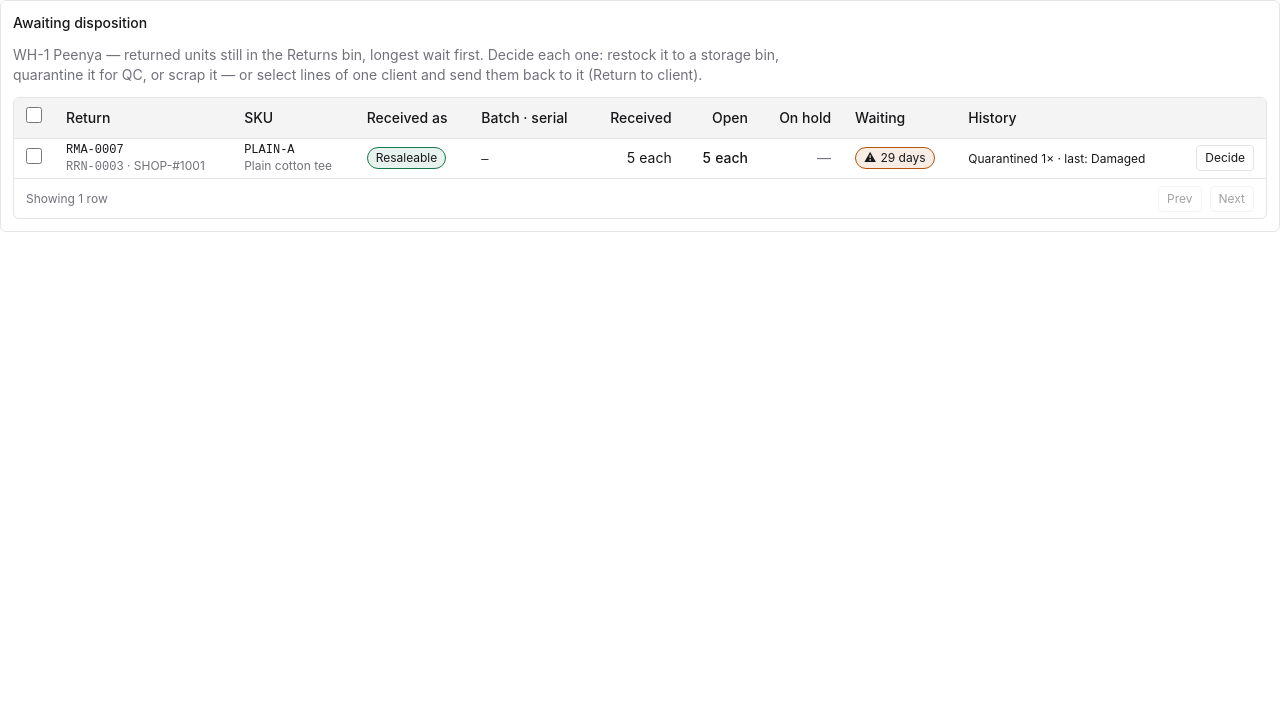
Test: the awaiting-disposition queue (story 4-7a) › a refusal that moved the line (exceeds-awaiting) names what is left and re-reads the queue
Step 1. Click the button with aria-label "Decide PLAIN-A on RMA-0007" → (1225, 158), box [1196,145,1254,171]
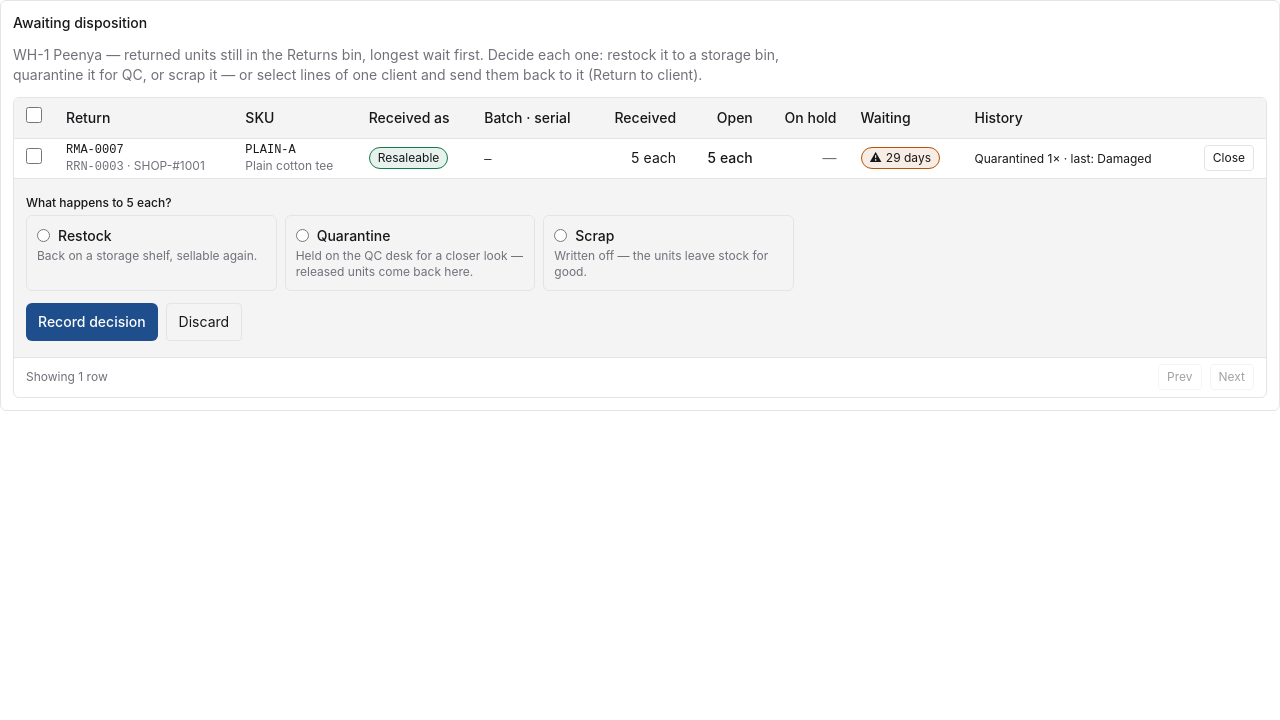
Step 2. Click the 2nd radio button → (302, 236), box [296,229,309,242]
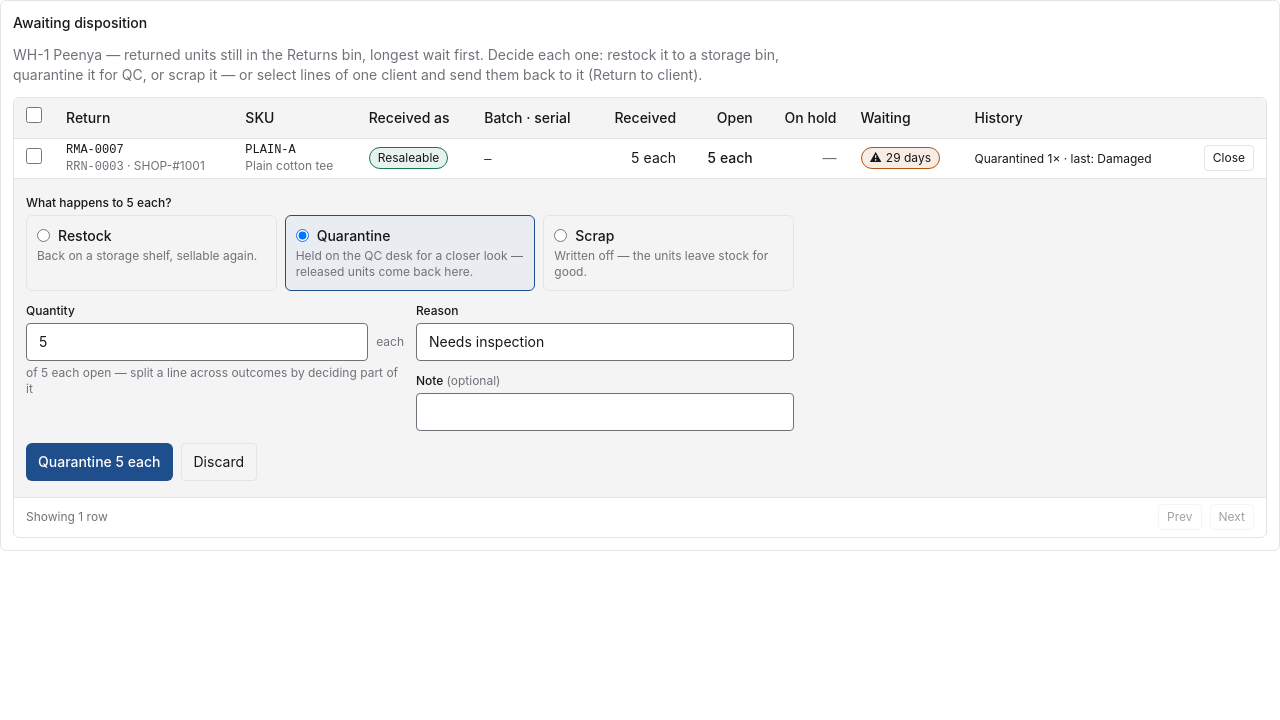
Check: the dropdown named "Reason" is shown
Step 3. Select "Needs inspection" in the dropdown named "Reason" → (605, 342), box [416,322,794,360]
Check: the button "Quarantine 5 each" is shown
Step 4. Click the button "Quarantine 5 each" → (99, 462), box [26,442,172,480]
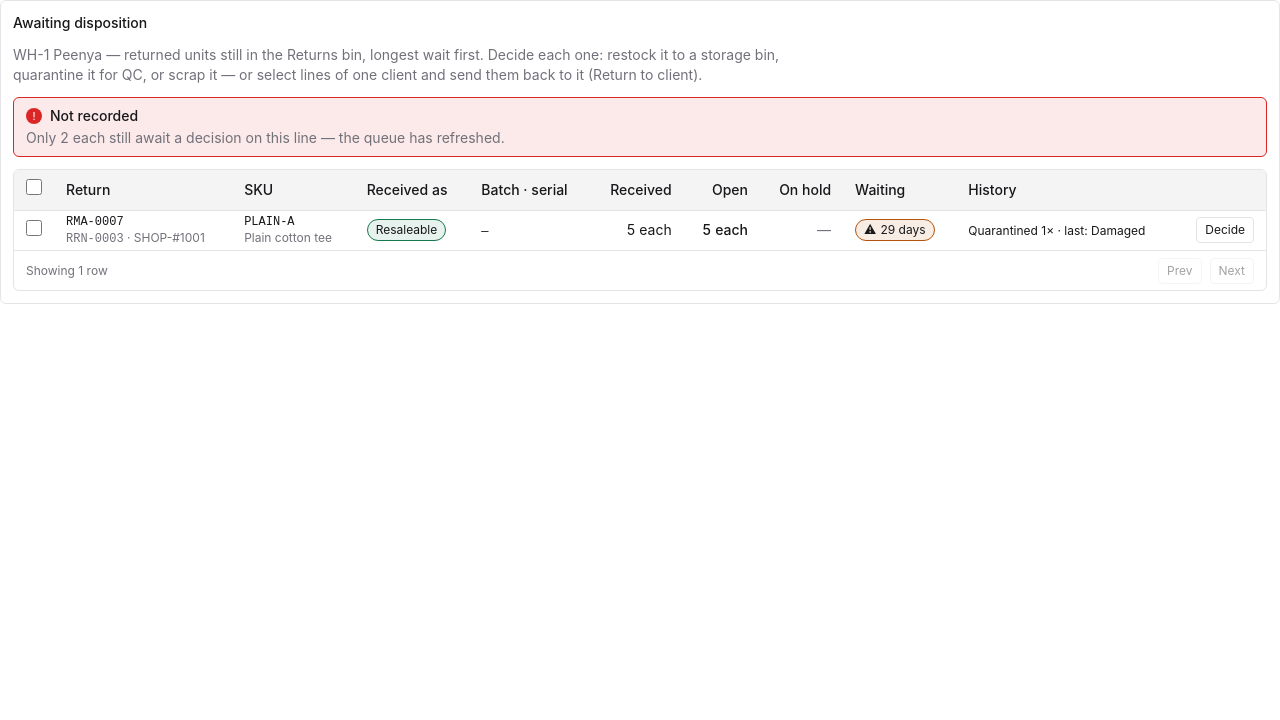
Check: the text "Only 2 each still await a decision on this line" is shown, box [26,129,505,146]
Check: the dropdown named "Reason" is gone
